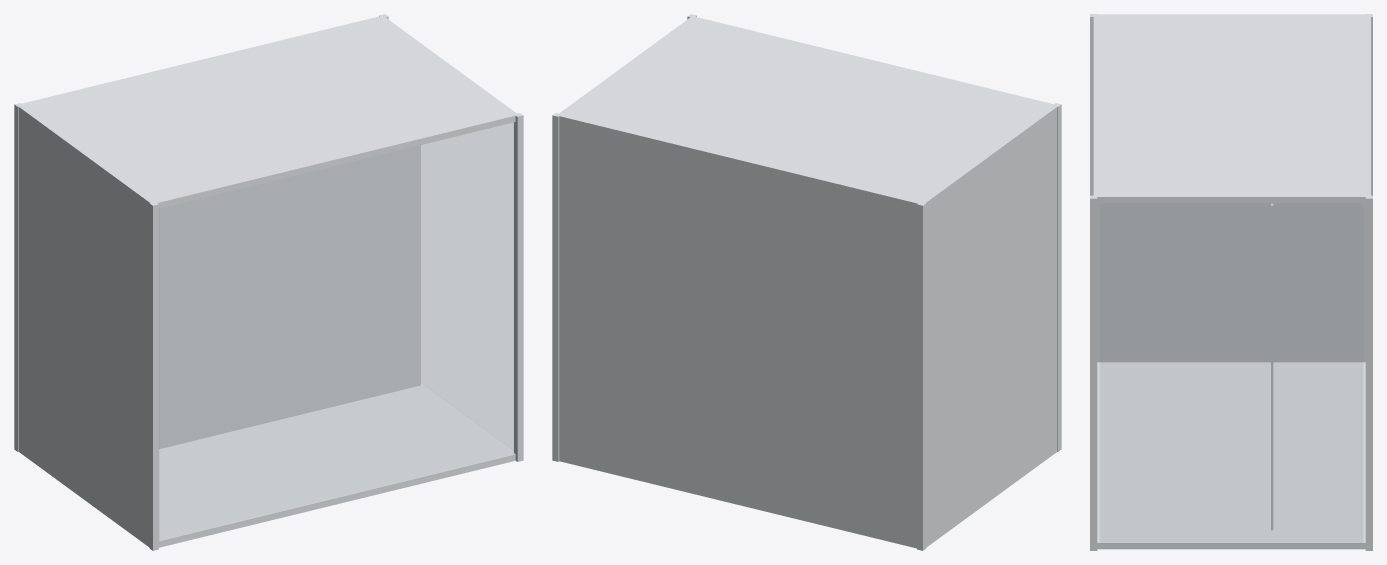
The model's file is retail-lian-li-o11-dynamic-mini-snow.glb.
3 views of the same model, side by side, from view 1: azimuth 30°, elevation 25°; view 2: azimuth 150°, elevation 25°; view 3: azimuth 270°, elevation 25° (orthographic). The views are drawn at different scales.
Parts seen in each view (by area): view 1: Side panel, Motherboard tray, Top, Rear, Base, Front panel, Frame rail (×3); view 2: Back, Top, Rear, Frame rail (×3); view 3: Front panel, Top, Base, Rear, Frame rail (×4), Motherboard tray, Back.
Boxes of the visible parts, x1,y1,x2,y2 form: Side panel: [159, 122, 513, 540]; Motherboard tray: [159, 145, 420, 449]; Top: [19, 16, 518, 208]; Rear: [17, 105, 153, 546]; Base: [159, 382, 515, 547]; Front panel: [421, 123, 513, 449]; Frame rail (×3): [14, 103, 523, 550]; Back: [559, 115, 921, 548]; Top: [557, 16, 1055, 203]; Rear: [922, 105, 1058, 546]; Frame rail (×3): [552, 103, 1061, 550]; Front panel: [1100, 203, 1362, 542]; Top: [1093, 15, 1369, 203]; Base: [1097, 362, 1365, 549]; Rear: [1093, 14, 1369, 362]; Frame rail (×4): [1090, 14, 1372, 550]; Motherboard tray: [1271, 203, 1273, 530]; Back: [1368, 15, 1370, 196].
Size of the model in its own units: 0.427 by 0.38 by 0.2765.
